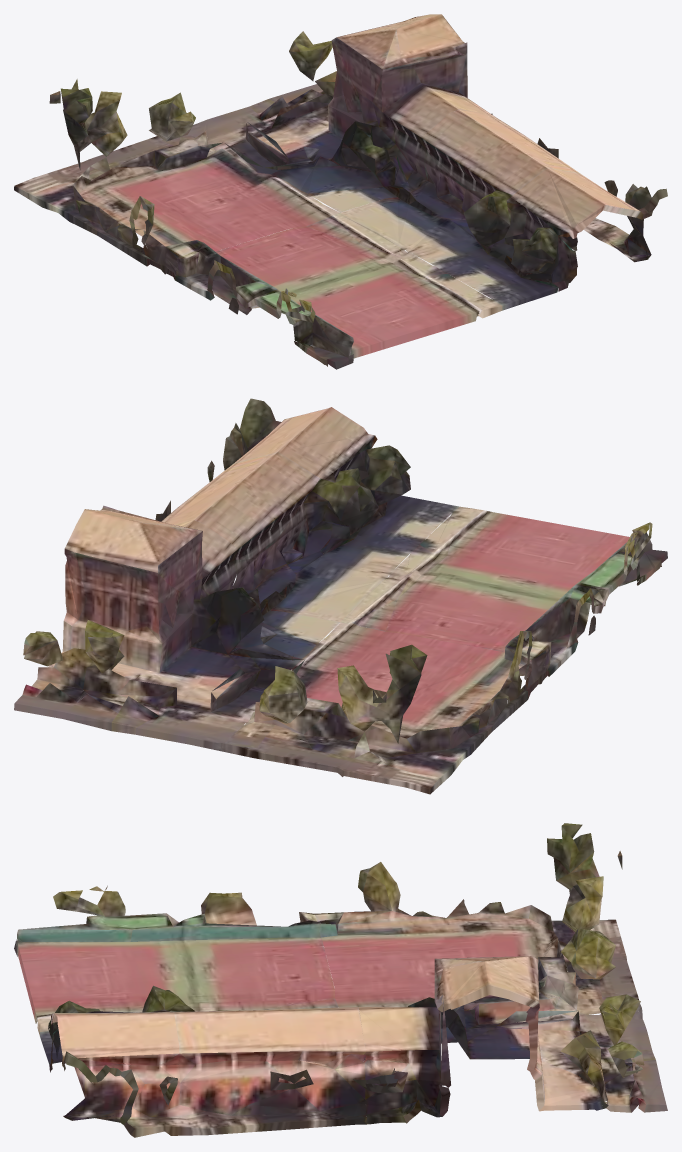
3 renders of one model, top to bottom at view 1: azimuth 30°, elevation 25°; view 2: azimuth 150°, elevation 25°; view 3: azimuth 270°, elevation 25°, orthographic. The views are drawn at different scales.
Parts seen in each view (by area): view 1: Mesh_0; view 2: Mesh_0; view 3: Mesh_0.
Boxes of the visible parts, x1,y1,x2,y2 form: Mesh_0: (14, 14, 667, 369); Mesh_0: (14, 398, 667, 794); Mesh_0: (14, 823, 667, 1137).
Bounding box in the file's own units: 66.57 × 20 × 82.55.
Materials: 1 (1 with a texture image).
